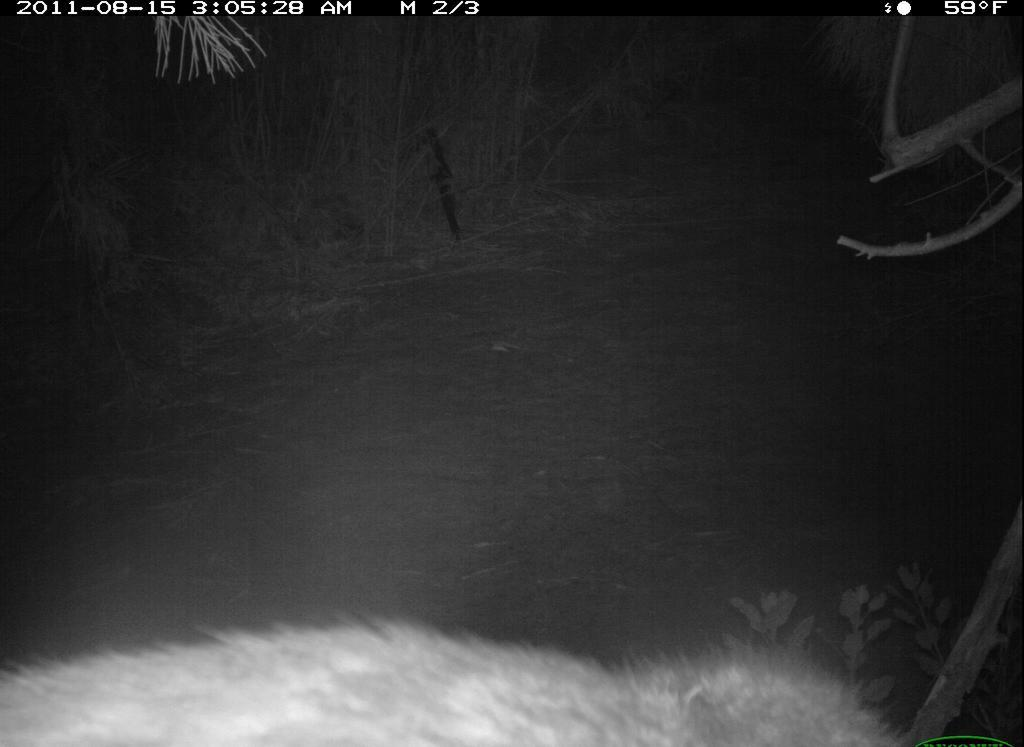raccoon: (3, 623, 920, 747)
